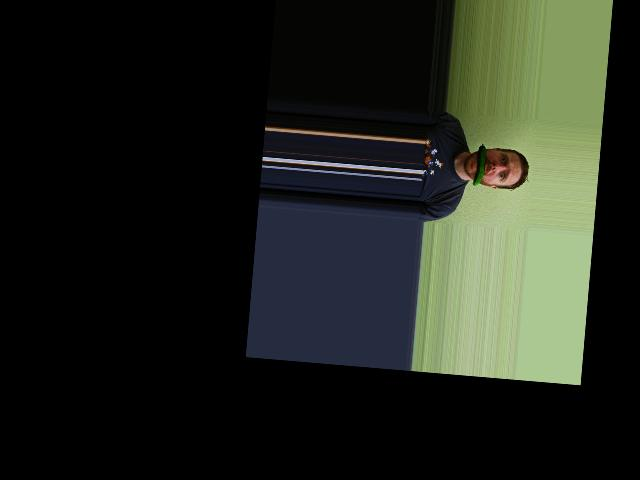cucumber: (472, 143, 486, 187)
